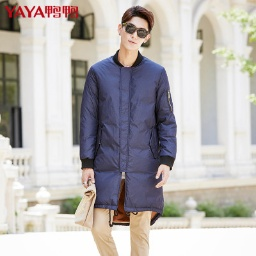face: (116, 5, 153, 53)
